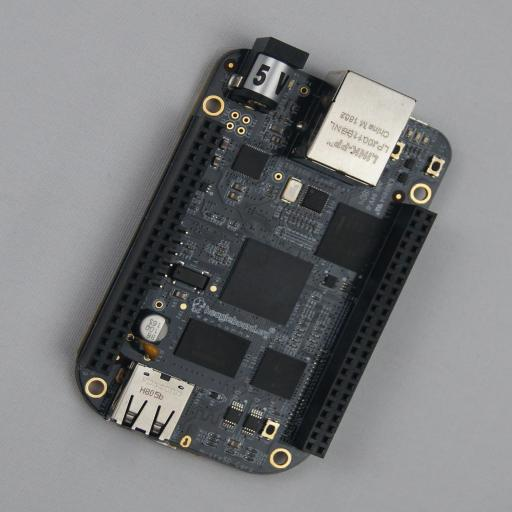Beaglebone Black: (68, 36, 452, 474)
